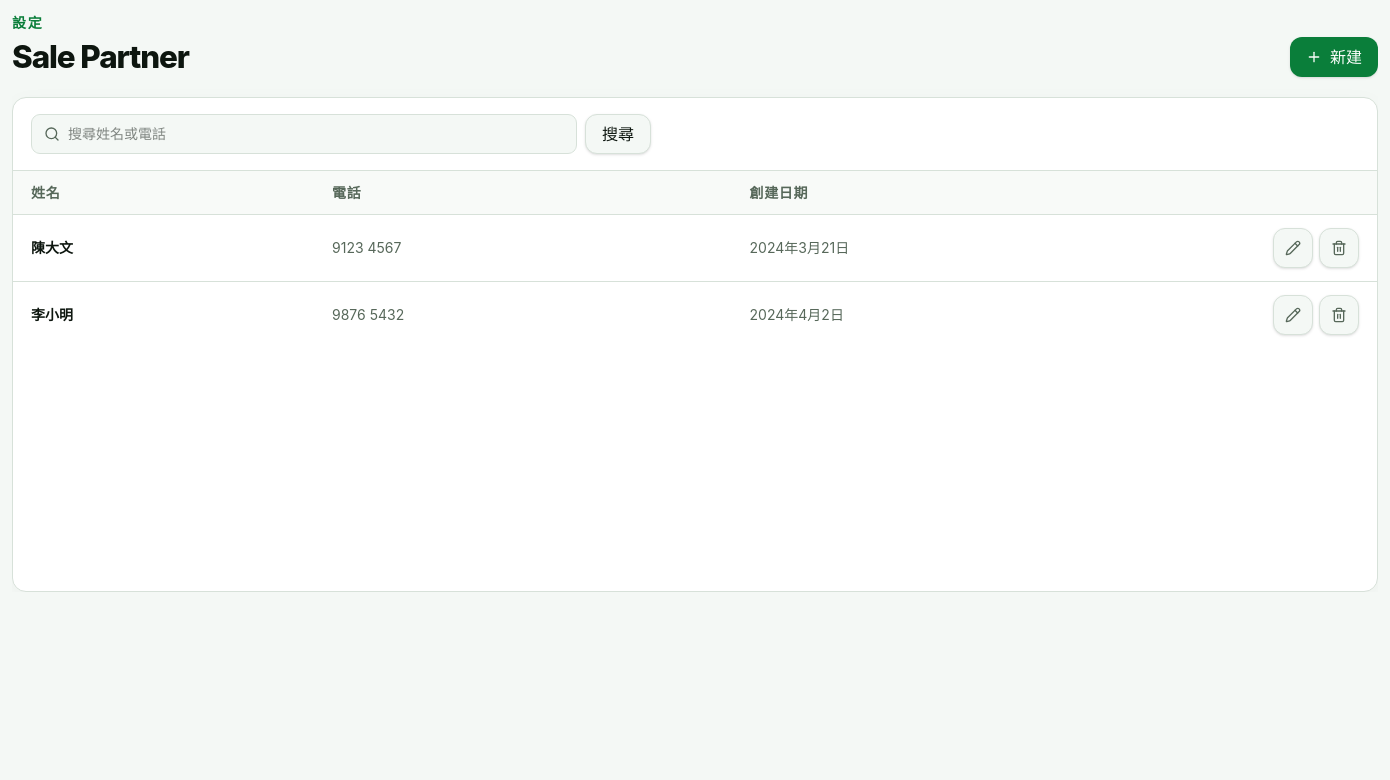
Sale Partner page › shows the API delete error even when it is a plain object
This screenshot has width=1390, height=780.
Expected: the text "陳大文" is shown, [31,239,73,256]
Step 1. Click the button named "刪除" in the row of "陳大文" → coordinates (1339, 248), box [1319,228,1359,268]
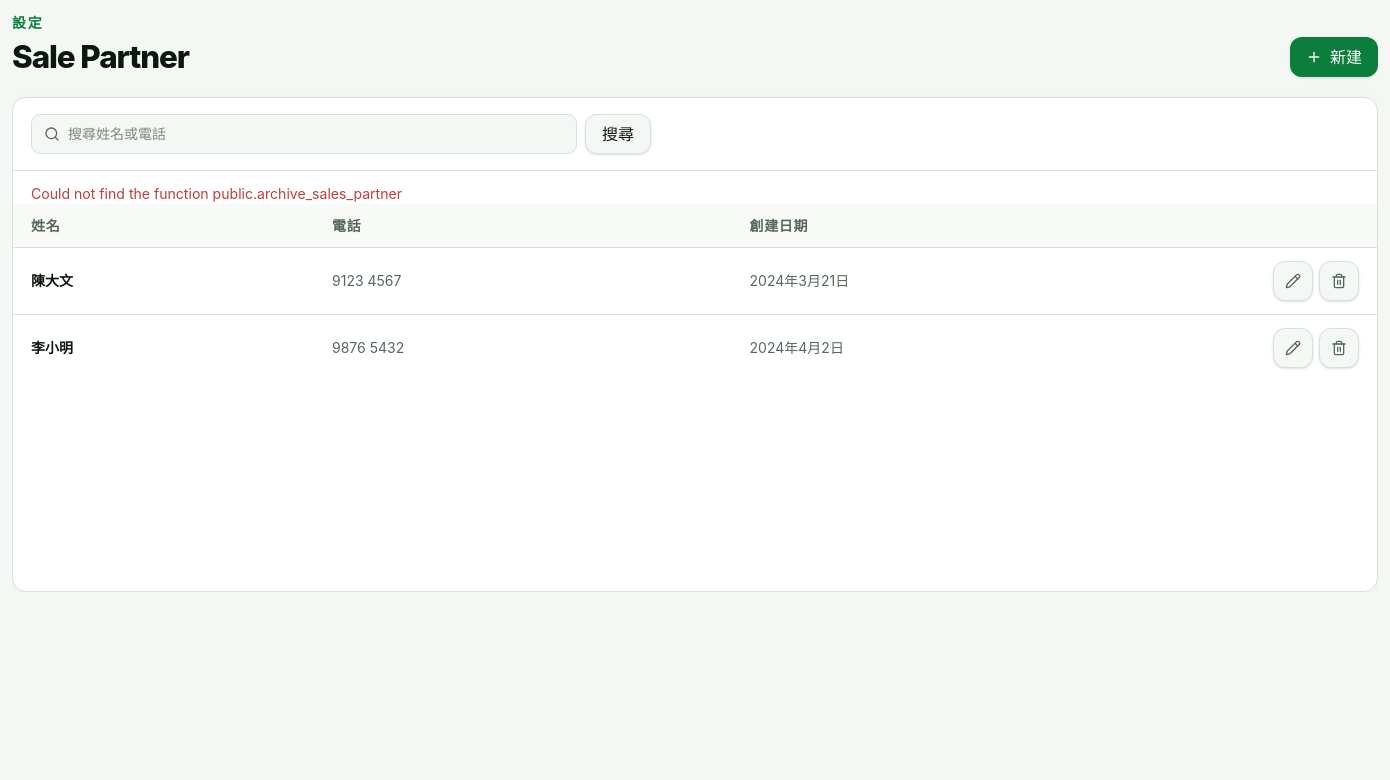
Expected: the text "陳大文" is shown, [31,272,73,289]
Result: the text "Could not find the function public.archive_sales_partner" is shown at [31,185,402,202]
